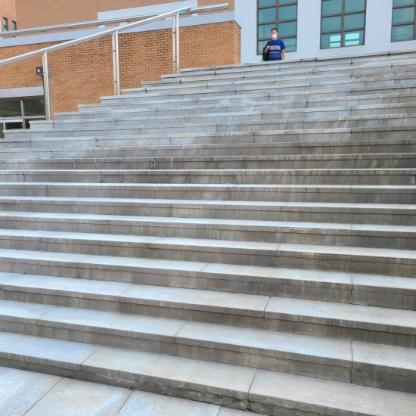stair: (16, 55, 416, 411)
